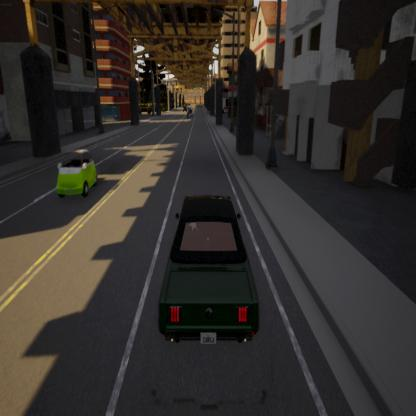Cars: (149, 184, 265, 352), (51, 142, 101, 204), (186, 102, 194, 118), (182, 100, 188, 112)
